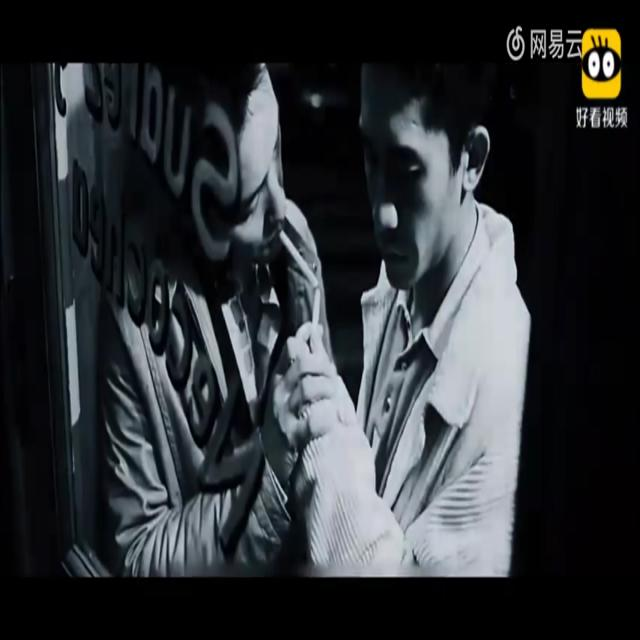smoke: (277, 228, 318, 291)
